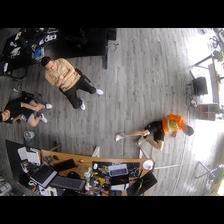fall: (113, 112, 194, 151)
normal: (41, 55, 105, 112)
